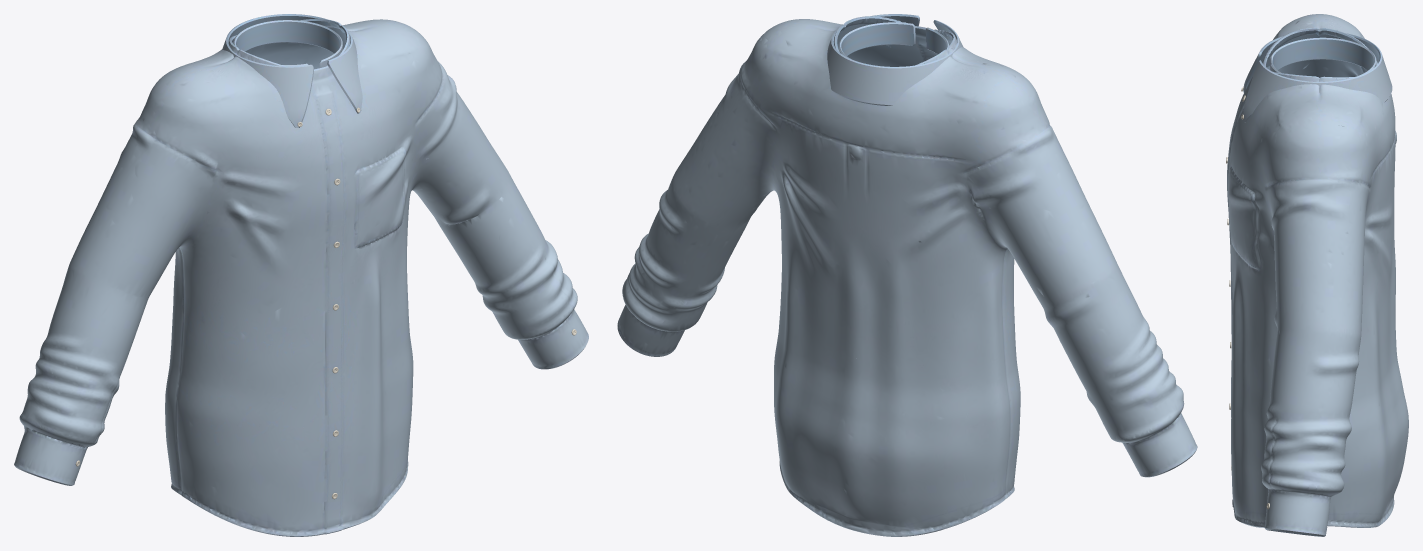
The model's file is 02_camisa_oxford_pbr.glb.
3 views of the same model, side by side, from view 1: azimuth 30°, elevation 25°; view 2: azimuth 150°, elevation 25°; view 3: azimuth 270°, elevation 25° (orthographic). The views are drawn at different scales.
Parts seen in each view (by area): view 1: Camiseta PBR; view 2: Camiseta PBR; view 3: Camiseta PBR.
Boxes of the visible parts, left/top/right/bottom form: Camiseta PBR: left=14, top=14, right=588, bottom=536; Camiseta PBR: left=617, top=14, right=1197, bottom=536; Camiseta PBR: left=1227, top=14, right=1408, bottom=536.
Size of the model in its own units: 0.9995 by 0.784 by 0.2873.
2 materials, 1 textured.
